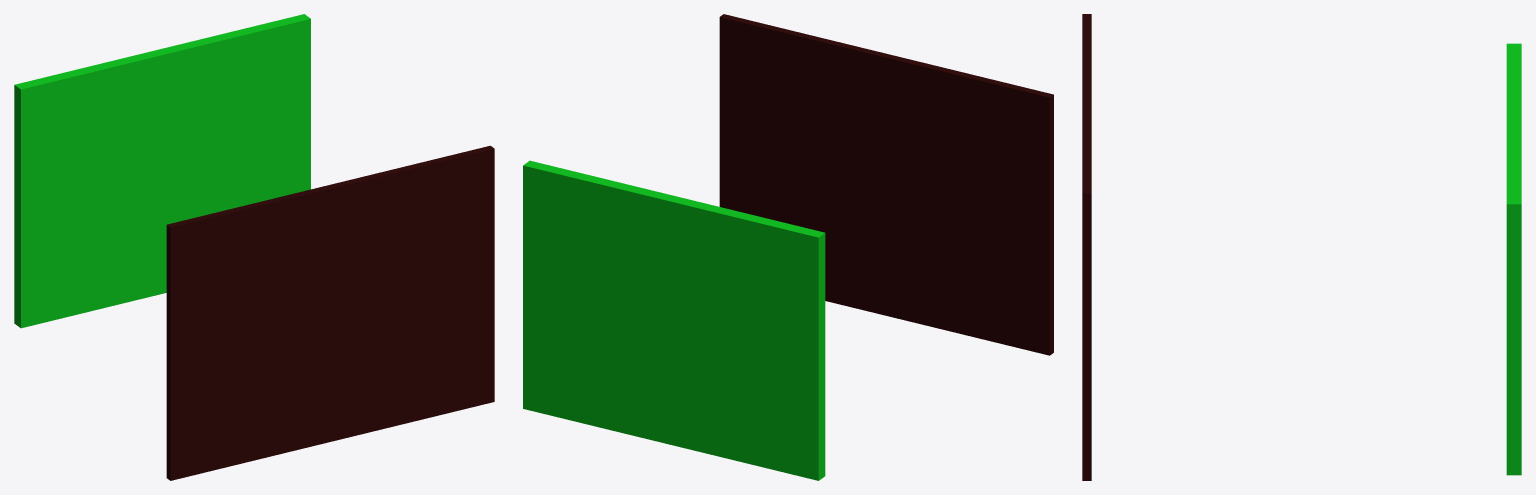
File: pellets.obj
3 renders of one model, left to right at view 1: azimuth 30°, elevation 25°; view 2: azimuth 150°, elevation 25°; view 3: azimuth 270°, elevation 25°, orthographic. The views are drawn at different scales.
Parts seen in each view (by area): view 1: Cube, Cube.001; view 2: Cube, Cube.001; view 3: Cube.001, Cube.
Part boxes in pixels (<box>): Cube: <box>166,145,494,480</box>; Cube.001: <box>14,14,310,328</box>; Cube: <box>719,14,1053,355</box>; Cube.001: <box>523,160,825,480</box>; Cube.001: <box>1506,43,1521,475</box>; Cube: <box>1082,14,1091,480</box>.
Bounding box in the file's own units: 7.85 × 5.81 × 8.04.
